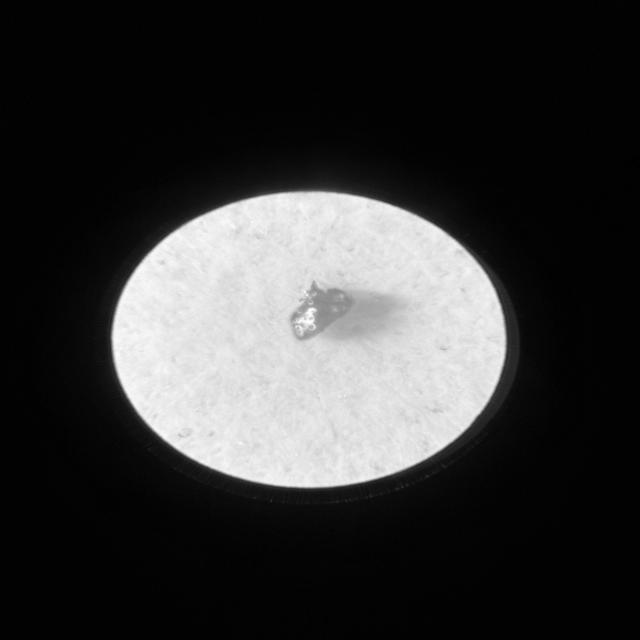microplastic_type_0: (290, 281, 353, 340)
